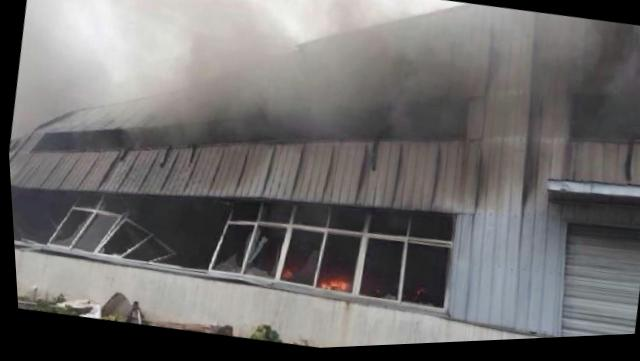fire: (311, 275, 345, 295)
